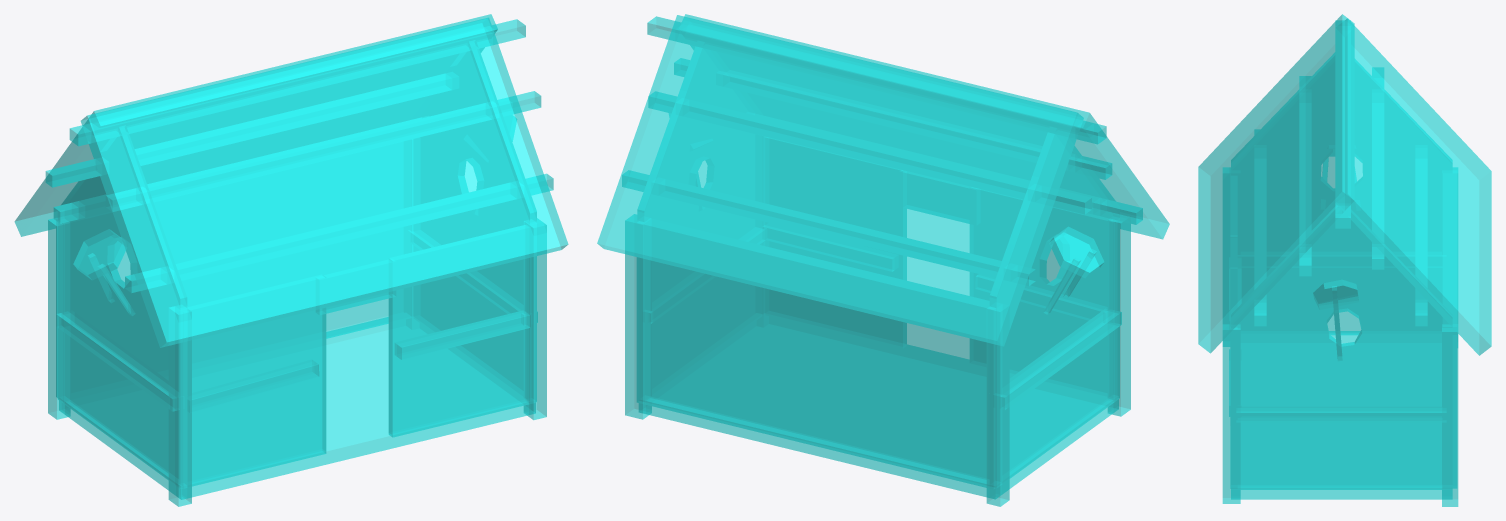
Rendered from SM_Bld_Shack_10_Collision.fbx.
3 renders of one model, left to right at view 1: azimuth 30°, elevation 25°; view 2: azimuth 150°, elevation 25°; view 3: azimuth 270°, elevation 25°, orthographic. The views are drawn at different scales.
Parts seen in each view (by area): view 1: SM_Bld_Shack_10_Collision; view 2: SM_Bld_Shack_10_Collision; view 3: SM_Bld_Shack_10_Collision.
Part boxes in pixels (left/top/right/bottom): SM_Bld_Shack_10_Collision: left=14, top=14, right=568, bottom=506; SM_Bld_Shack_10_Collision: left=597, top=14, right=1169, bottom=506; SM_Bld_Shack_10_Collision: left=1198, top=14, right=1491, bottom=506.
Size of the model in its own units: 673 by 498 by 417.
